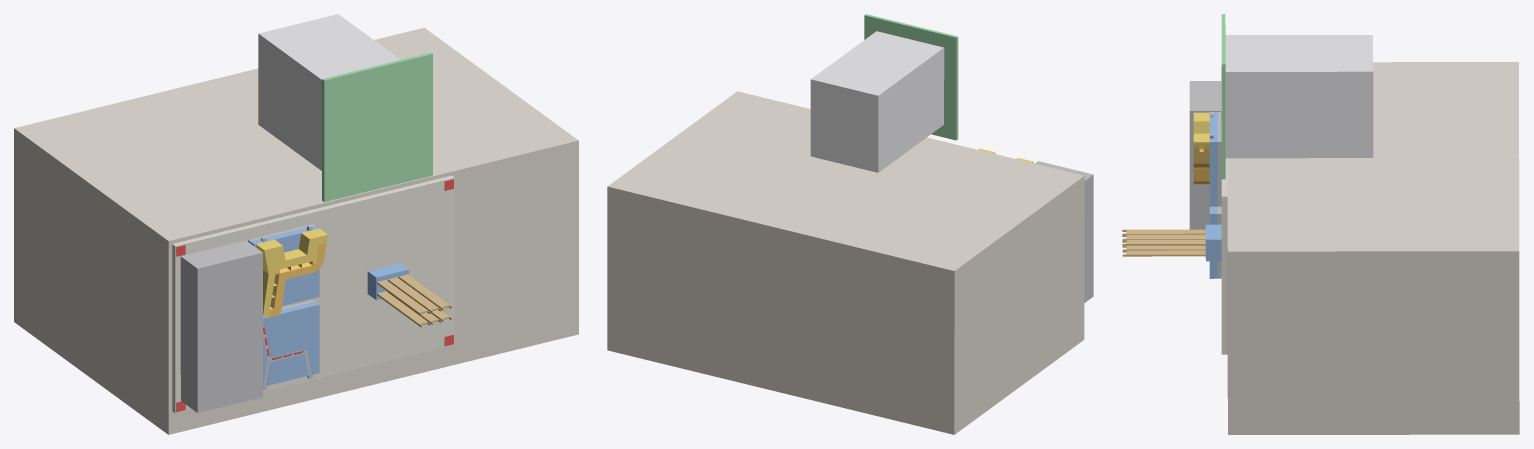
The model's file is cell_v5.glb.
3 renders of one model, left to right at view 1: azimuth 30°, elevation 25°; view 2: azimuth 150°, elevation 25°; view 3: azimuth 270°, elevation 25°, orthographic. The views are drawn at different scales.
Parts seen in each view (by area): view 1: Table, Ground base plate, AMR plate, Parking pad, AMR top module, Base B, Guide outer, Base A, Guide inner, Plank jig; view 2: Table, AMR top module, AMR plate, Parking pad; view 3: Table, AMR top module, Parking pad, Ground base plate, AMR plate, Base A, Guide inner, Plank jig, Guide outer, plank4, plank1, plank3 (+3 smaller).
Part boxes in pixels (<box>): Table: <box>14,27,578,434</box>; Ground base plate: <box>172,175,454,413</box>; AMR plate: <box>322,52,432,202</box>; Parking pad: <box>180,240,262,412</box>; AMR top module: <box>258,14,400,170</box>; Base B: <box>263,301,319,386</box>; Guide outer: <box>256,228,327,317</box>; Base A: <box>250,225,319,305</box>; Guide inner: <box>269,242,326,317</box>; Plank jig: <box>367,263,408,300</box>; Table: <box>607,91,1084,434</box>; AMR top module: <box>810,31,944,172</box>; AMR plate: <box>864,14,958,140</box>; Parking pad: <box>1035,161,1093,302</box>; Table: <box>1227,62,1519,434</box>; AMR top module: <box>1225,35,1373,158</box>; Parking pad: <box>1189,81,1221,229</box>; Ground base plate: <box>1221,68,1227,354</box>; AMR plate: <box>1221,14,1225,179</box>; Base A: <box>1209,112,1217,206</box>; Guide inner: <box>1193,145,1209,184</box>; Plank jig: <box>1205,224,1221,261</box>; Guide outer: <box>1193,112,1209,148</box>; plank4: <box>1122,250,1205,256</box>; plank1: <box>1122,239,1205,245</box>; plank3: <box>1122,229,1205,234</box>.
Bounding box in the file's own units: 1131 × 840 × 1001.
